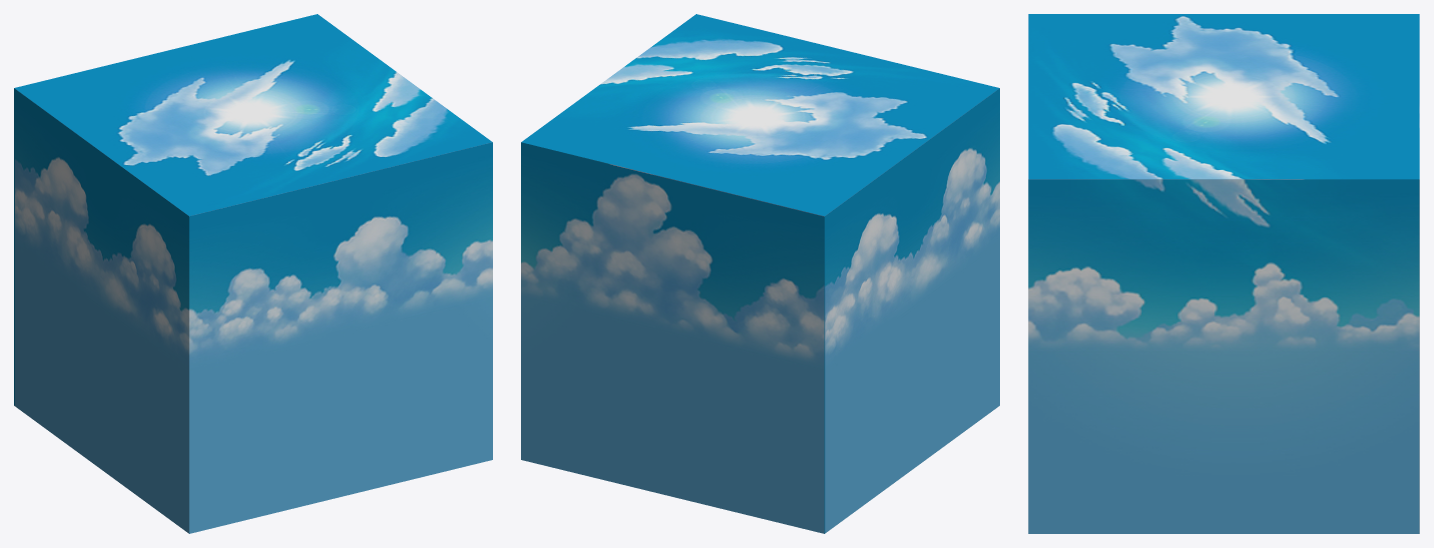
File: Skybox_2.glb
3 renders of one model, left to right at view 1: azimuth 30°, elevation 25°; view 2: azimuth 150°, elevation 25°; view 3: azimuth 270°, elevation 25°, orthographic. The views are drawn at different scales.
Parts seen in each view (by area): view 1: Cube; view 2: Cube; view 3: Cube.
Part boxes in pixels (x1=…): Cube: x1=14, y1=14, x2=492, y2=533; Cube: x1=521, y1=14, x2=999, y2=533; Cube: x1=1028, y1=14, x2=1419, y2=533.
Bounding box in the file's own units: 10 × 10 × 10.
1 material, 1 textured.
